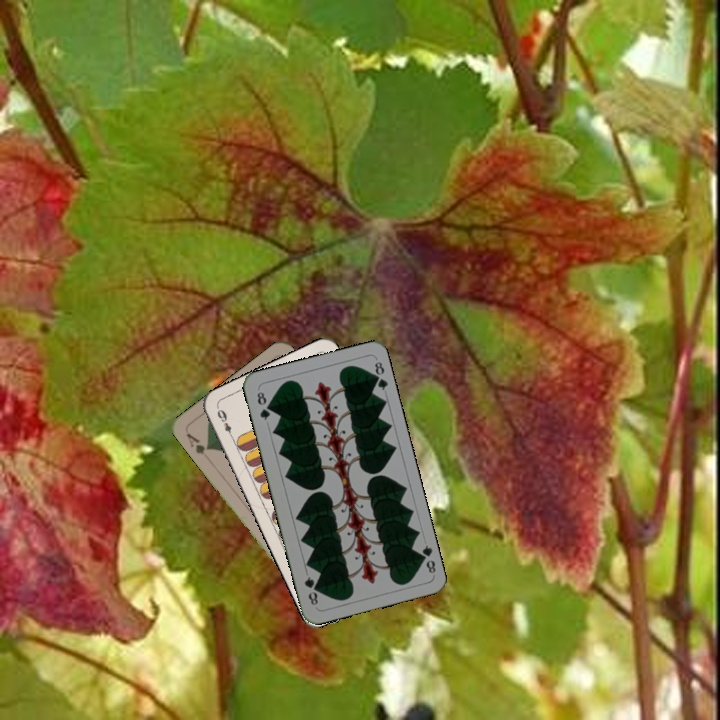E9: (213, 404, 236, 442)
G8: (414, 541, 438, 576), (253, 388, 273, 423)
GA: (182, 429, 212, 462)
